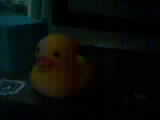duck: (27, 26, 91, 89)
